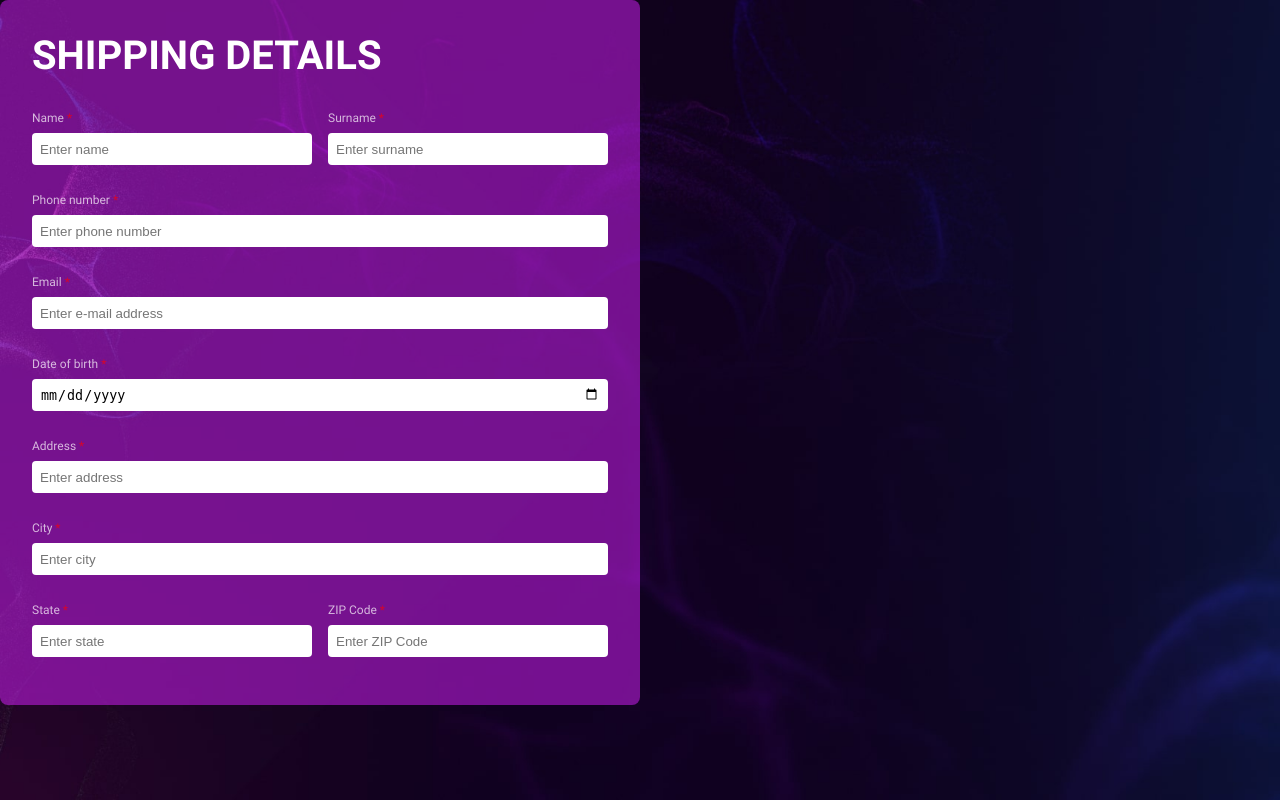
Test case: PurchaseForm › Should display validation error for phone number
Type "123" into the field with test id "PurchaseForm__PhoneInput" at (320, 231), box x1=32 y1=215 x2=608 y2=247
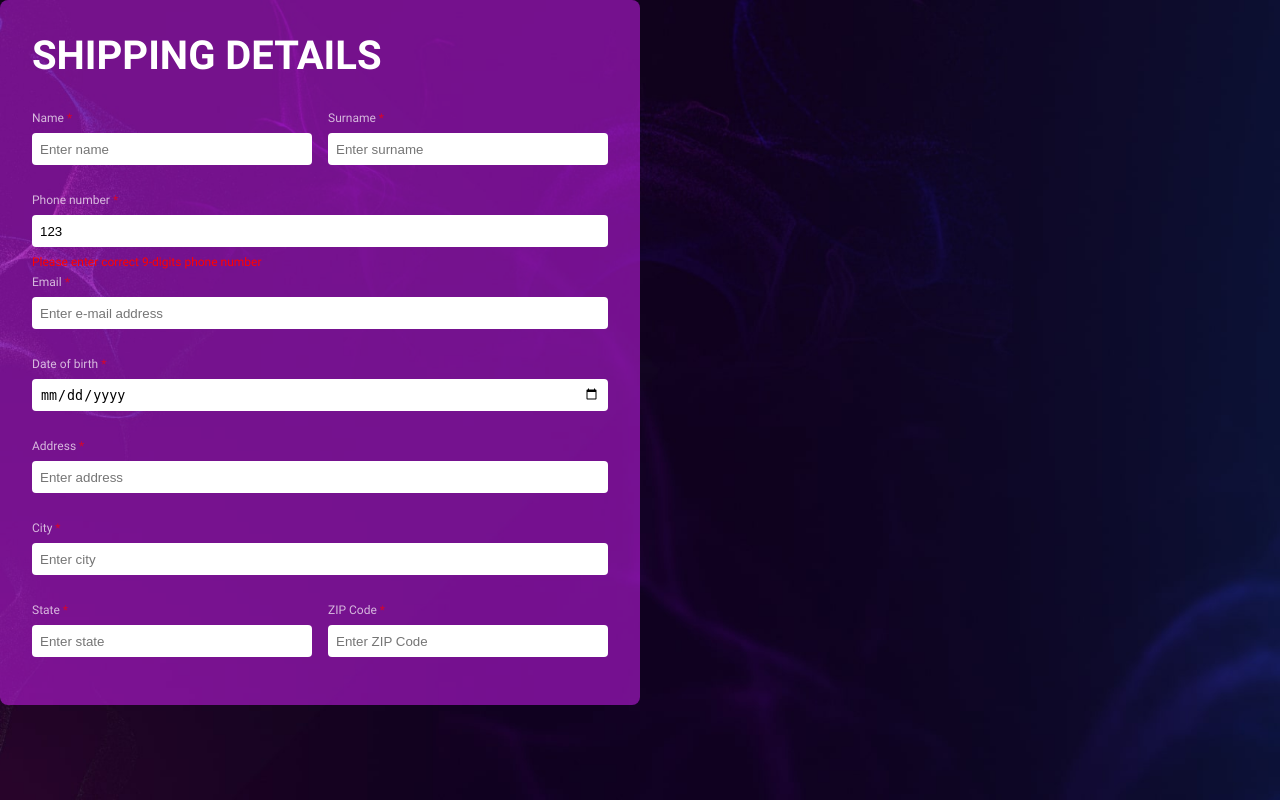
Expected: the text "Please enter correct 9-digits phone number" is shown, x1=32 y1=255 x2=262 y2=263
